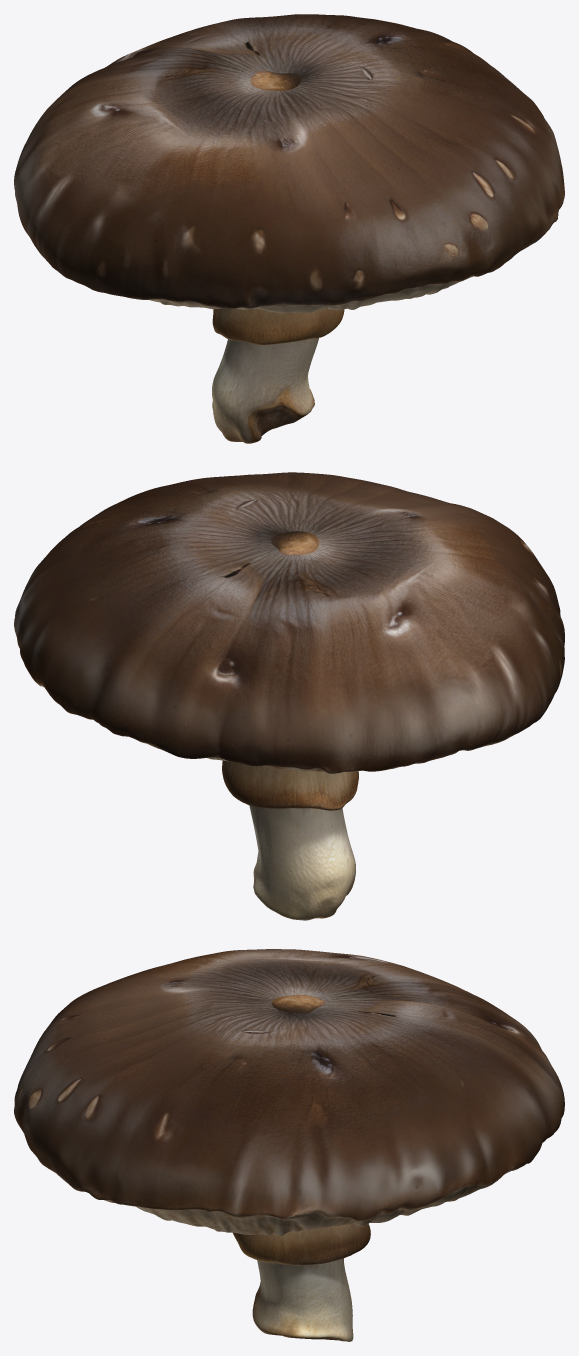
Rendered from Shiitake_GLTF.gltf.
3 views of the same model, one above another, from view 1: azimuth 30°, elevation 25°; view 2: azimuth 150°, elevation 25°; view 3: azimuth 270°, elevation 25° (orthographic). The views are drawn at different scales.
Parts seen in each view (by area): view 1: Node #0; view 2: Node #0; view 3: Node #0.
Part boxes in pixels (x1=…): Node #0: x1=14, y1=14, x2=564, y2=443; Node #0: x1=14, y1=472, x2=564, y2=920; Node #0: x1=14, y1=949, x2=564, y2=1341.
Bounding box in the file's own units: 2 × 1.43 × 2.
Materials: 1 (1 with a texture image).
